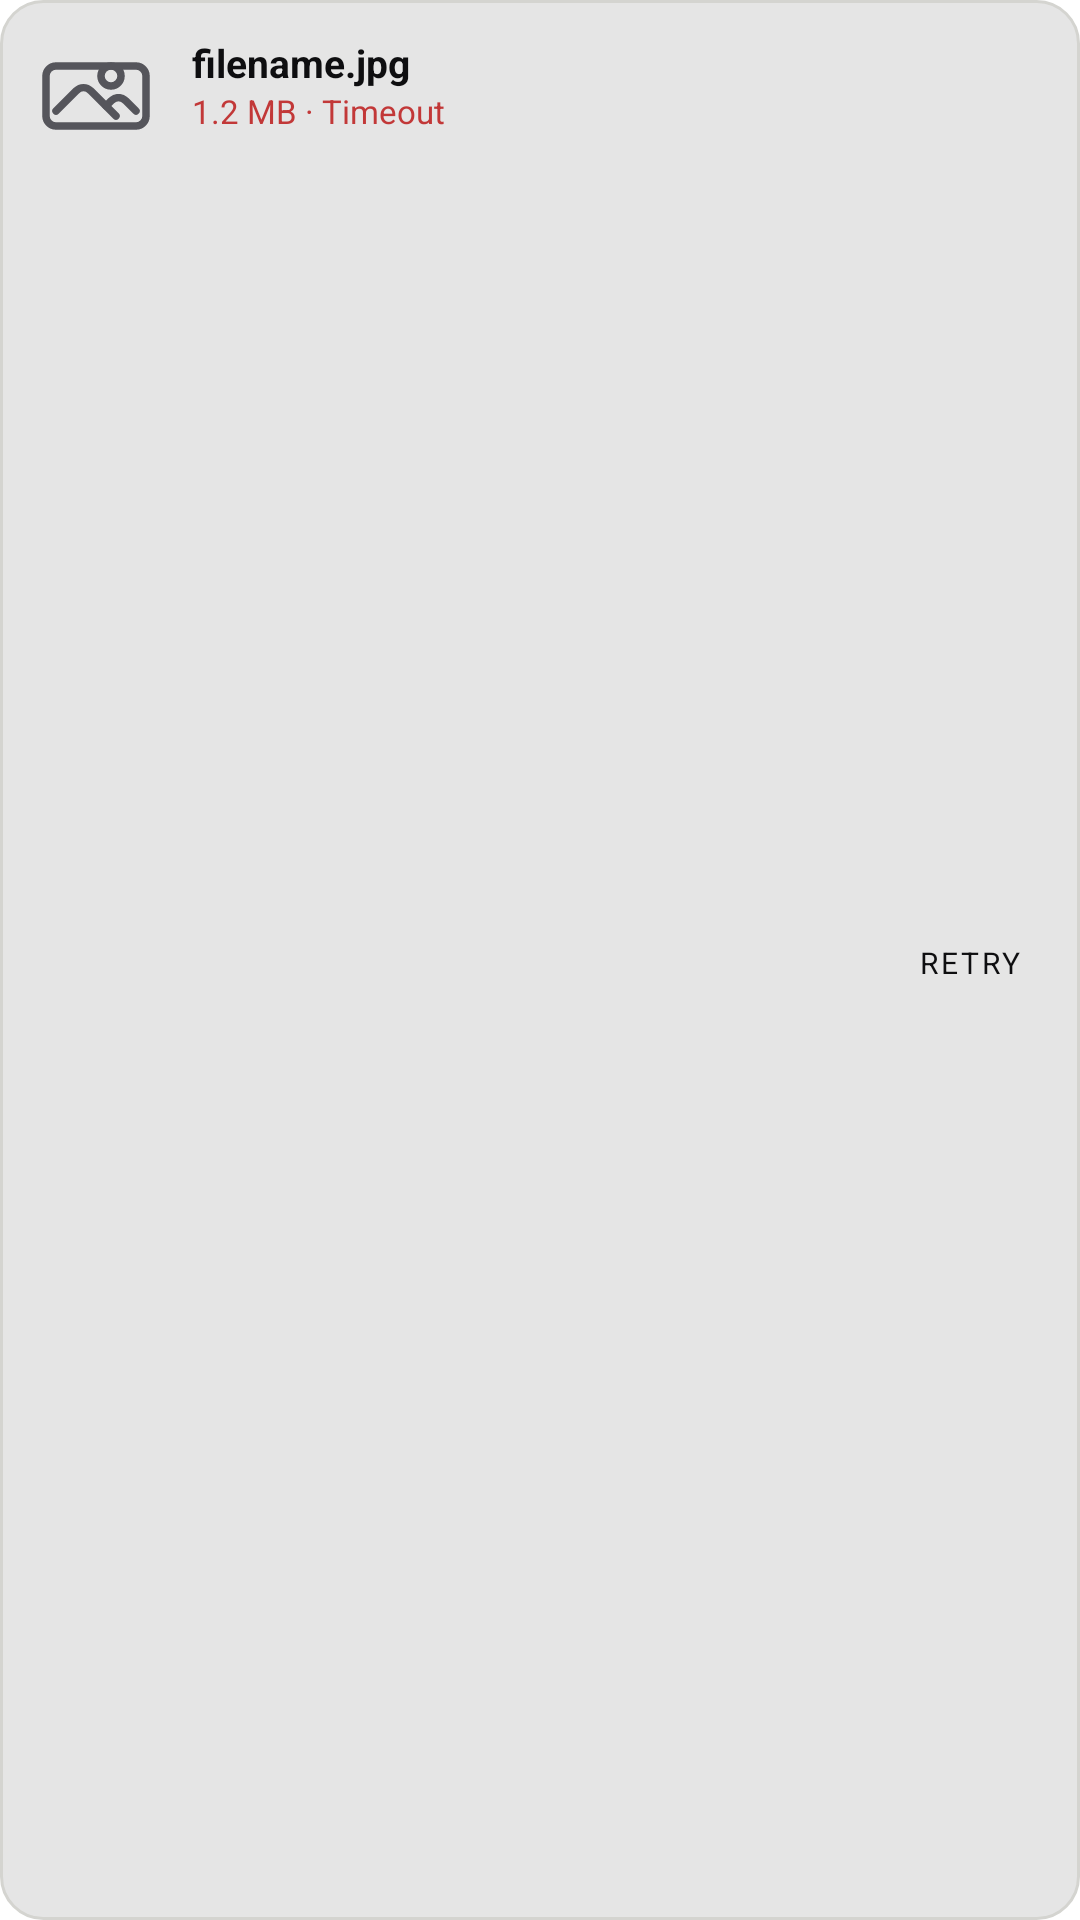

Named icons in this screenshot (1080w x 1920h) and their centers, [x,y]:
photo: [96,96]
